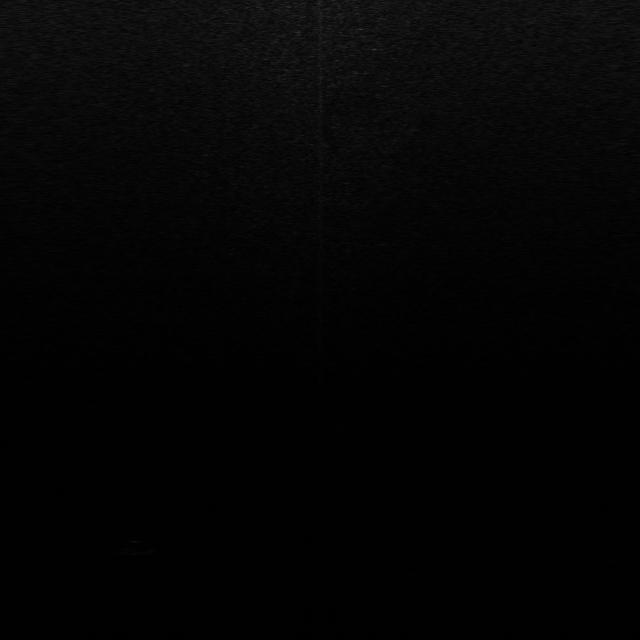tyre: (116, 538, 156, 557)
